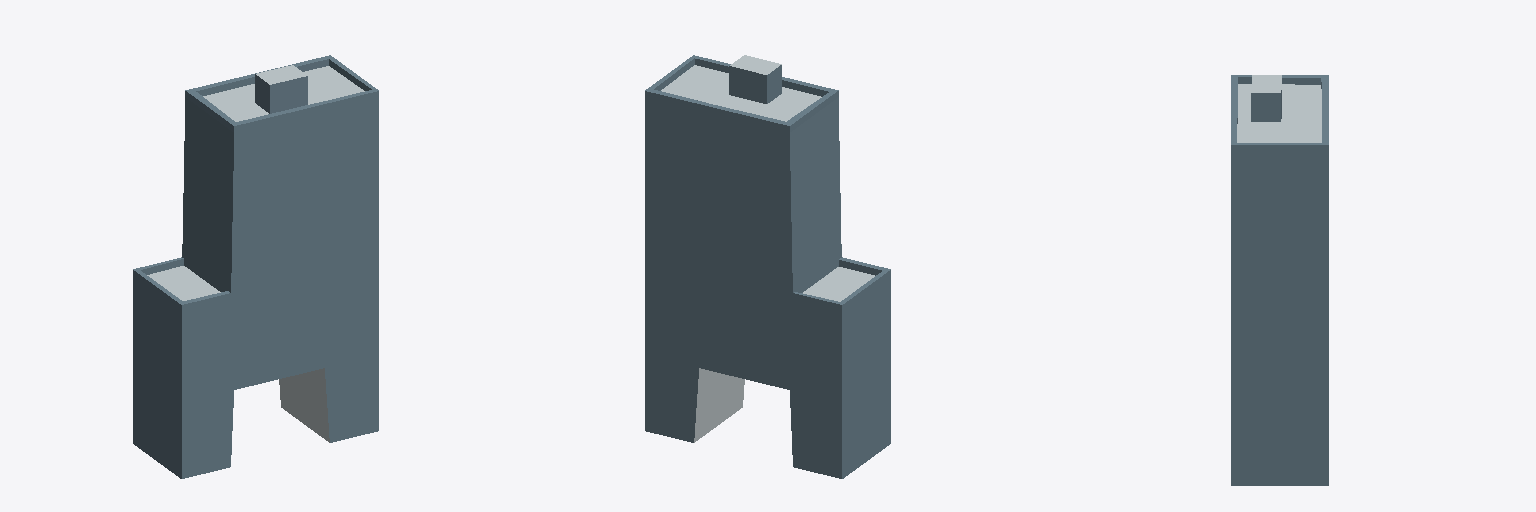
File: model-triangulated.obj
3 views of the same model, side by side, from view 1: azimuth 30°, elevation 25°; view 2: azimuth 150°, elevation 25°; view 3: azimuth 270°, elevation 25° (orthographic).
Parts seen in each view (by area): view 1: group[number redacted]; view 2: group[number redacted]; view 3: group[number redacted].
Part boxes in pixels (x1,y1,x2,y2): group[number redacted]: (133, 55, 378, 478); group[number redacted]: (645, 55, 890, 478); group[number redacted]: (1231, 75, 1328, 485).
Bounding box in the file's own units: 0.9225 × 1.62 × 0.3948.